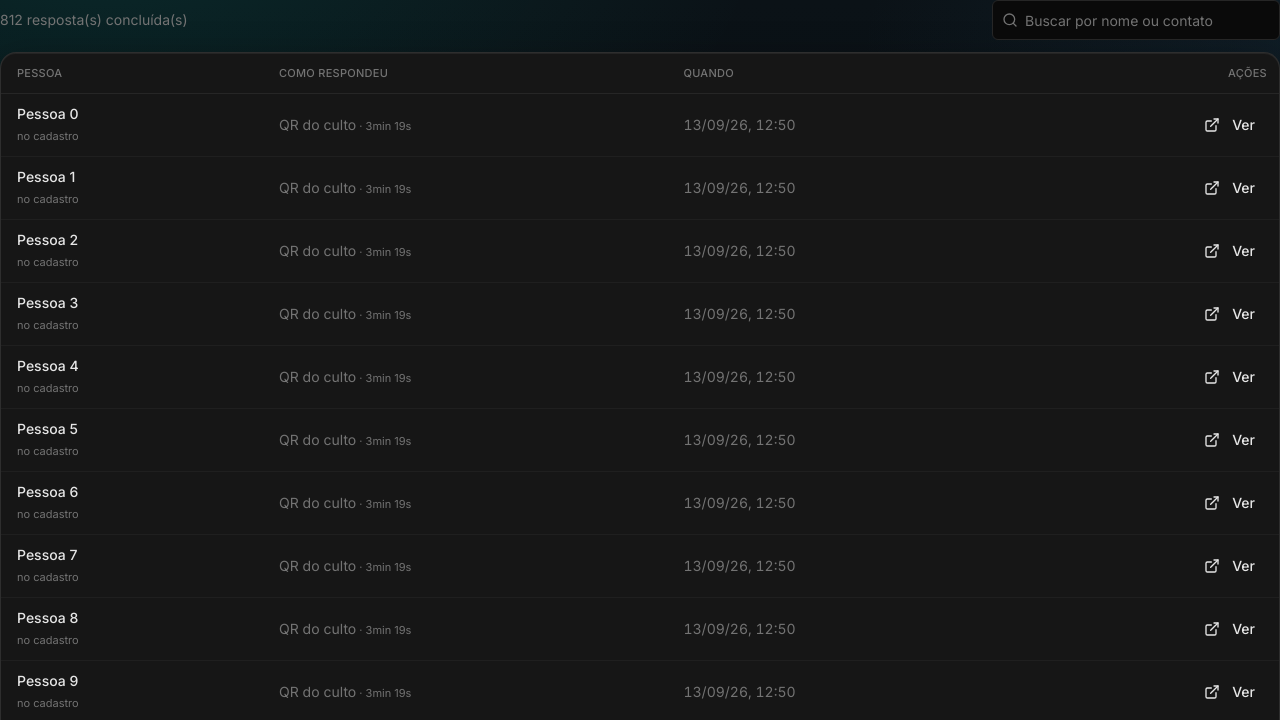
Test case: AbaRespostas · o total é do banco, a página tem 50 › a busca olha TODAS as respostas, não a página na tela
Type "jose" into the field with placeholder "Buscar por nome ou contato" at (1136, 20), box [992,0,1279,40]
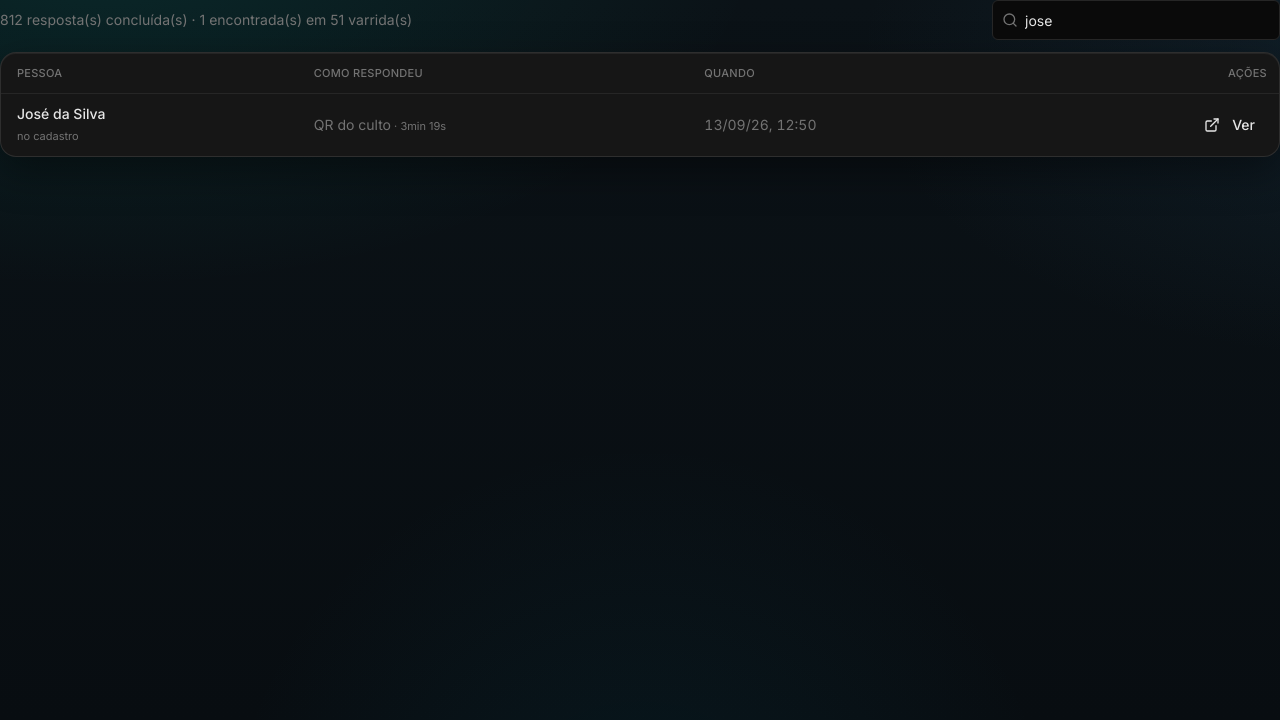
Expected: the button "José da Silva" is shown, [17,104,106,124]
Expected: the text "resposta(s) concluída(s)" shows "1 encontrada(s)", [188,11,412,28]
